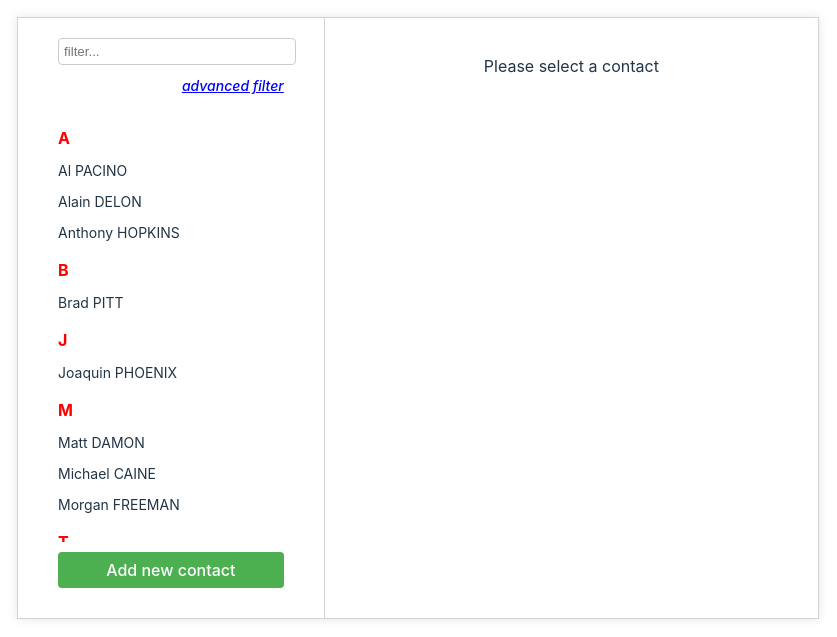
it: Main Component › should select a contact and display details
Click the text "Alain DELON". click: [100, 202]
box: [58, 193, 142, 210]
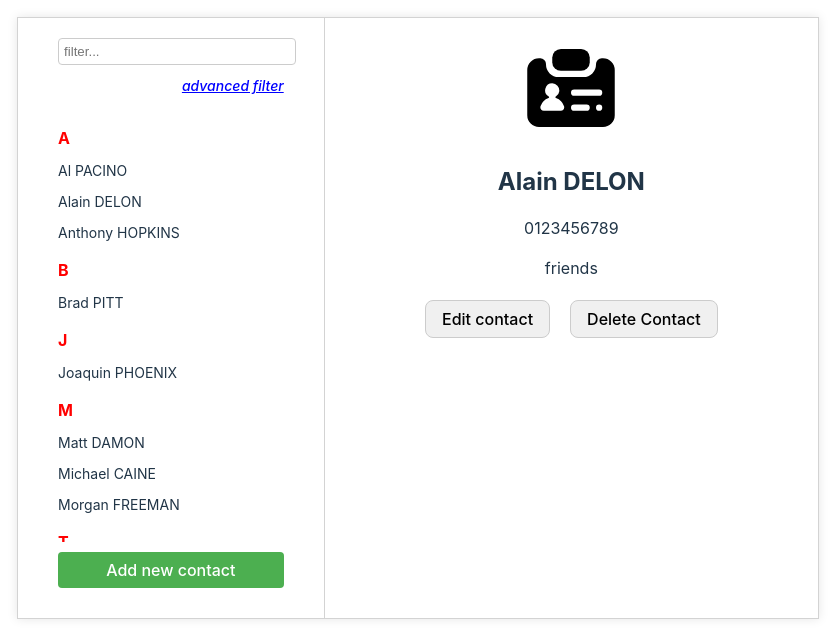
Result: the heading "Alain DELON" is shown at [498, 167, 645, 196]
Result: the text "friends" is shown at [545, 258, 598, 278]
